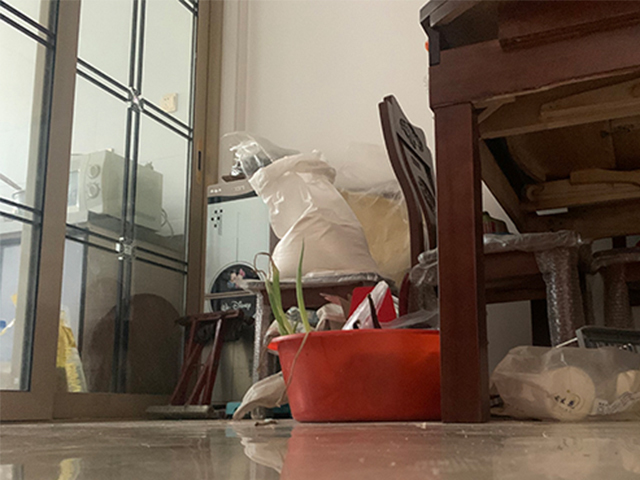stool: (145, 309, 240, 418)
table: (418, 1, 640, 426)
